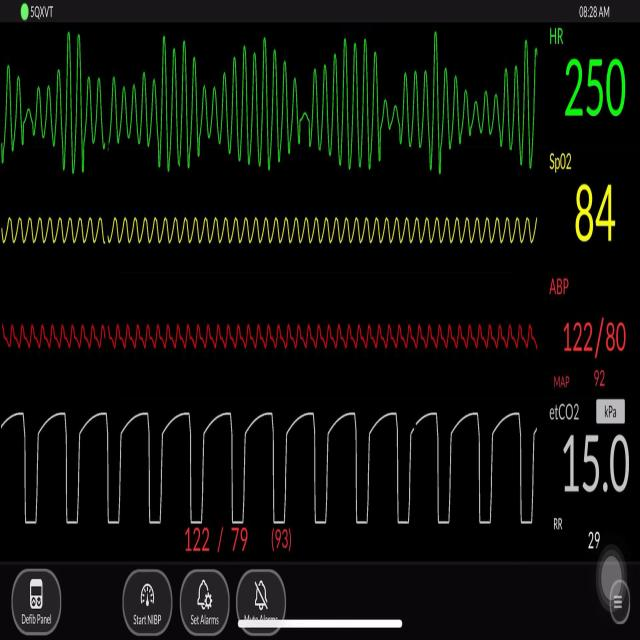danger: (10, 36, 546, 182)
